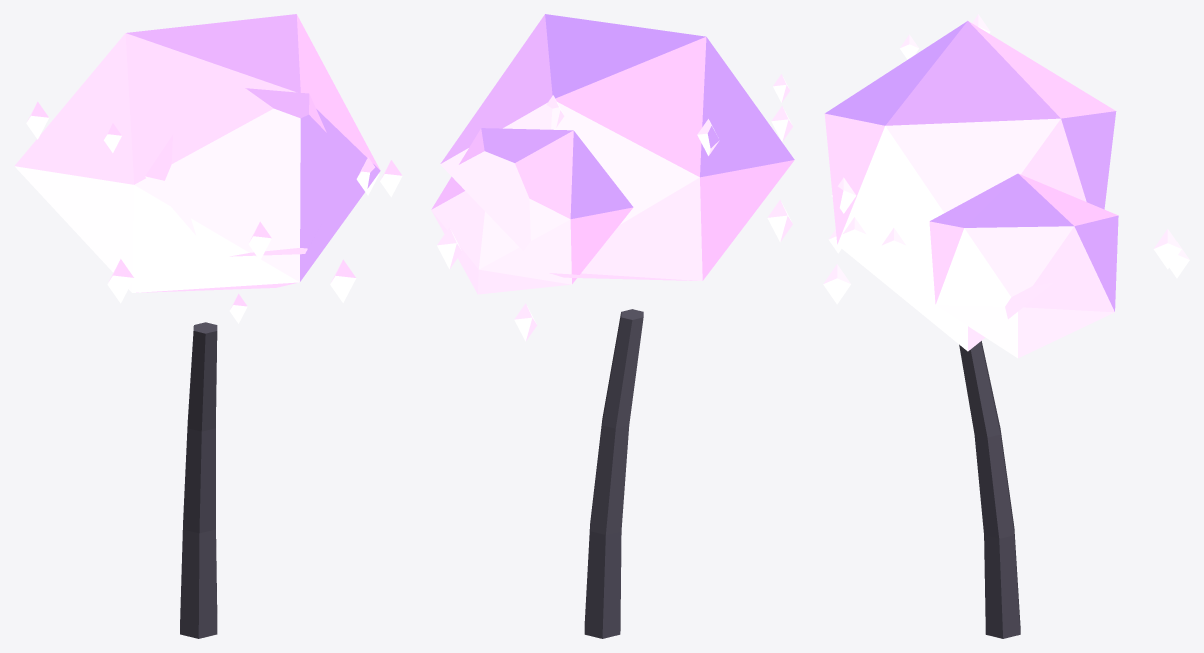
The model's file is purple_glow_near.glb.
3 renders of one model, left to right at view 1: azimuth 30°, elevation 25°; view 2: azimuth 150°, elevation 25°; view 3: azimuth 270°, elevation 25°, orthographic. The views are drawn at different scales.
Parts seen in each view (by area): view 1: purple_glow_near; view 2: purple_glow_near; view 3: purple_glow_near.
Boxes of the visible parts, <box> form: purple_glow_near: <box>14,14,402,638</box>; purple_glow_near: <box>431,14,794,638</box>; purple_glow_near: <box>823,14,1189,638</box>.
Size of the model in its own units: 1.41 by 2.49 by 1.46.
